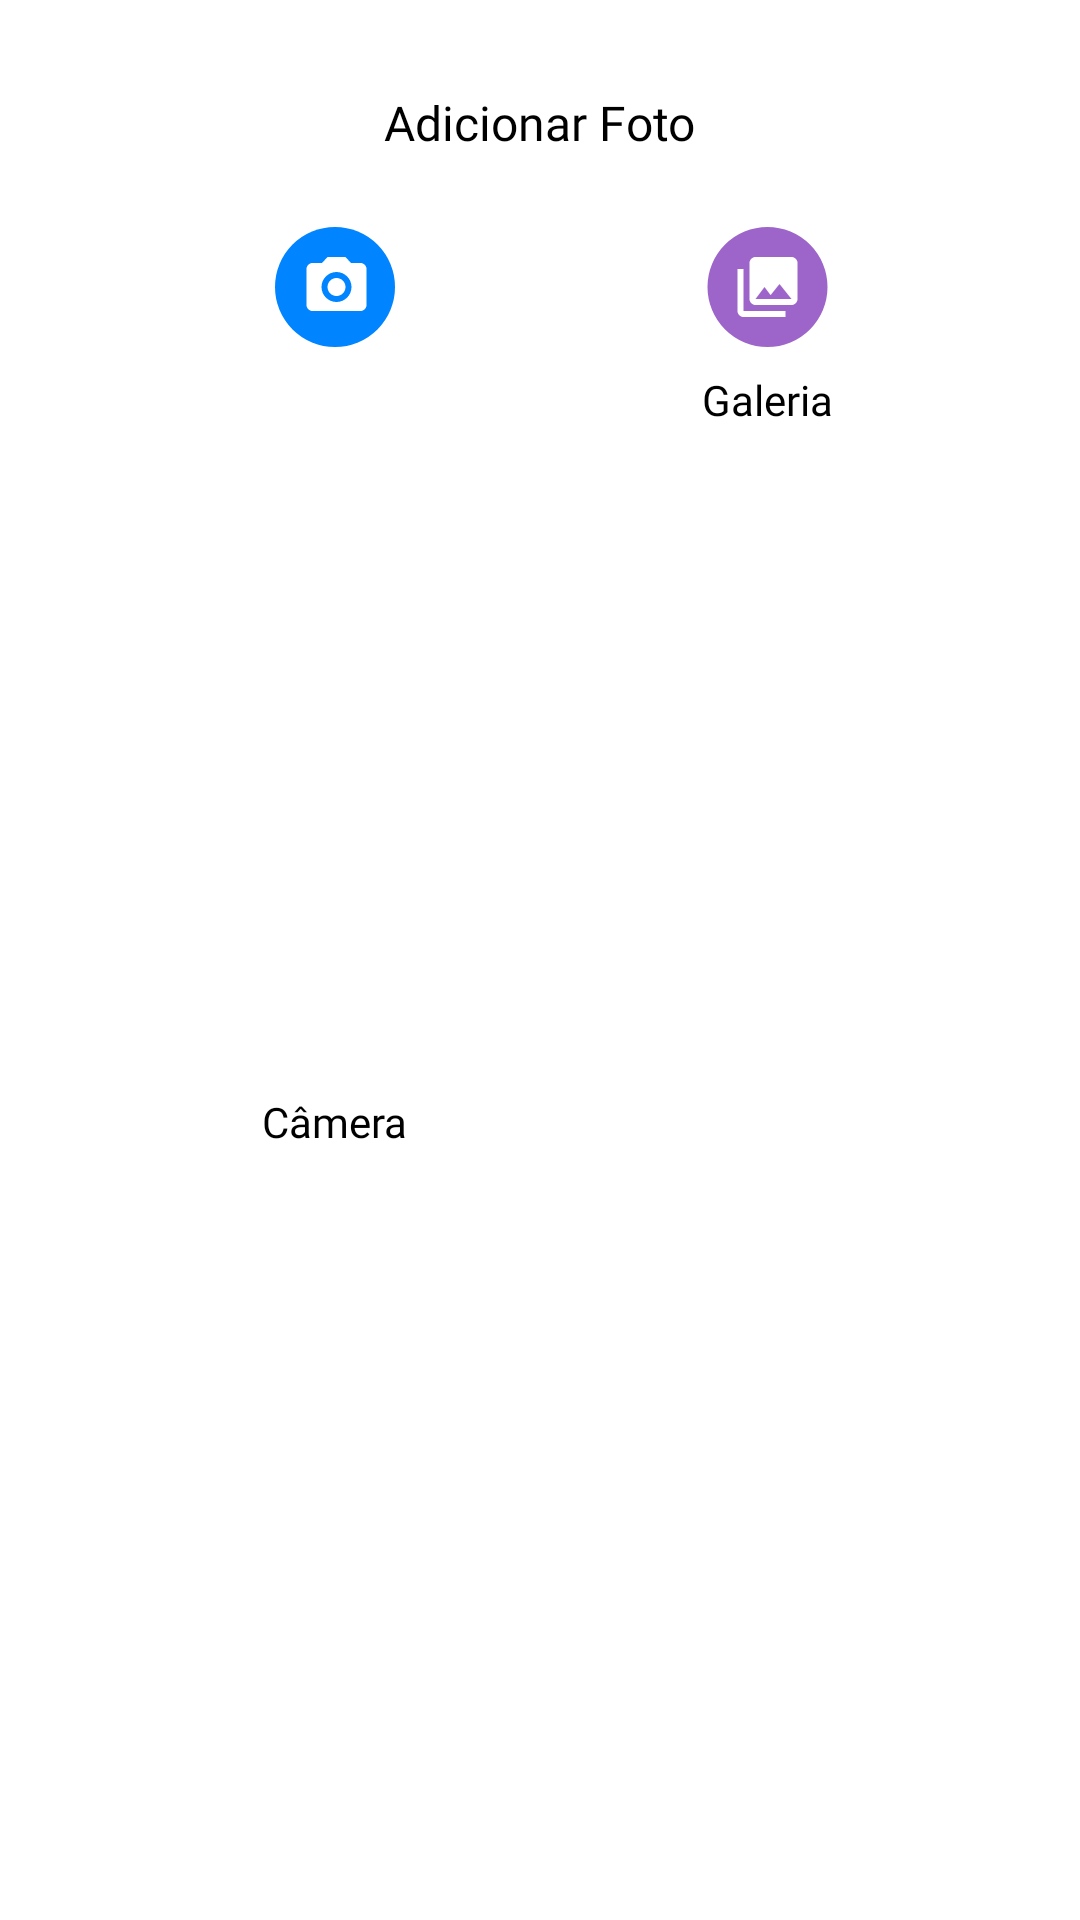

Screen size 1080x1920. Icon name, then its center in pixels as (x=x, y=y):
camera: (x=335, y=287)
